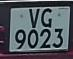0: (26, 28, 40, 50)
2: (39, 28, 52, 50)
3: (52, 28, 63, 48)
9: (14, 28, 28, 51)
G: (40, 7, 54, 29)
V: (26, 8, 41, 29)
